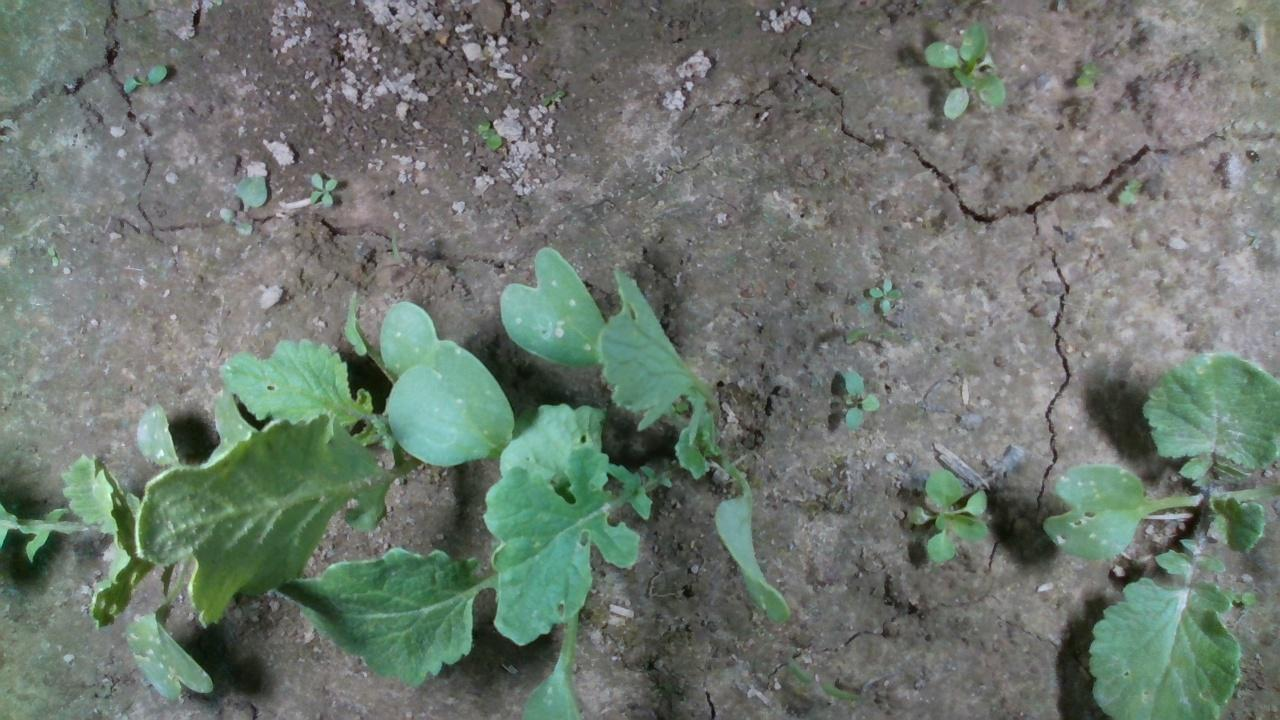weed: (112, 59, 182, 95), (301, 171, 352, 208), (464, 122, 514, 150), (863, 272, 897, 307)
